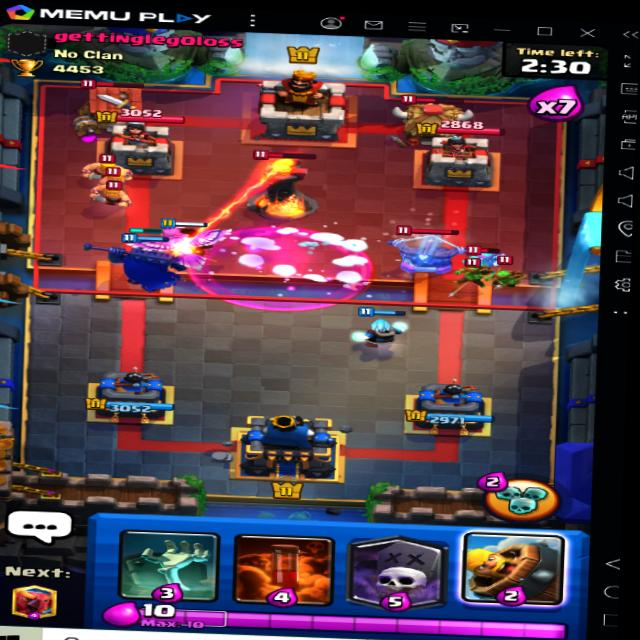barbarian: (83, 150, 130, 181), (89, 178, 136, 208), (84, 167, 137, 193)
barbarian-hut: (73, 75, 151, 139)
goblin-hut: (393, 90, 476, 147)
inferno-tower: (240, 147, 325, 219)
spear-goblin: (484, 267, 525, 291), (459, 260, 490, 285), (469, 245, 499, 268)
x-bow: (383, 217, 474, 274)
